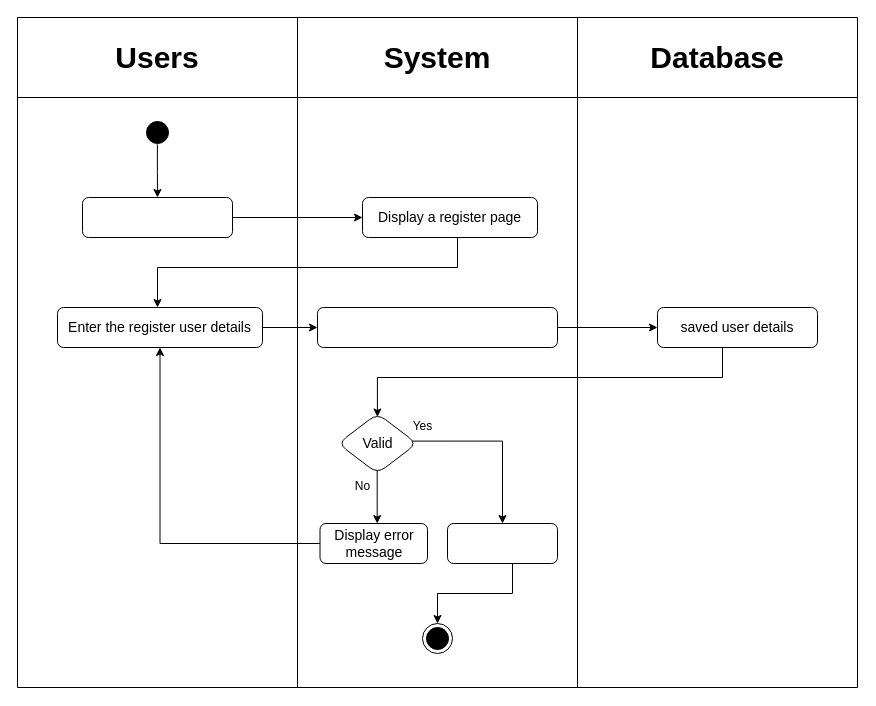
This 876x706 diagram has some shape labels left out. The box of each missing label's shape, as (x1, y1, x2, y2) in pixels:
Click on Register button: (82, 196, 232, 238)
Display Login Page: (446, 522, 558, 564)
Request details for datastore: (316, 306, 558, 348)
